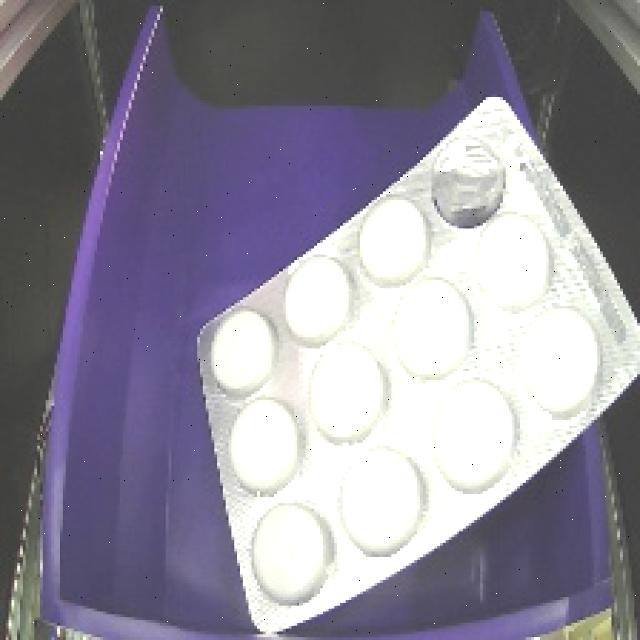med_plate: (178, 90, 640, 640)
